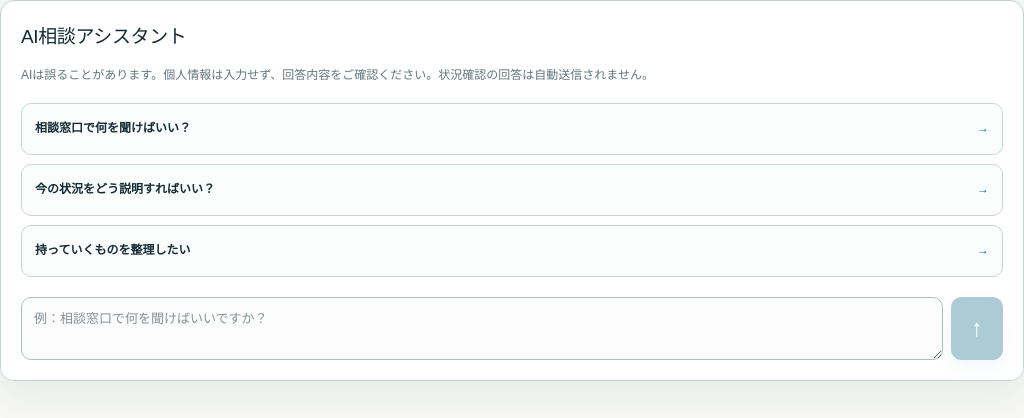
Test: SupportChat conversation lifecycle › scrolls the log toward the latest entry after sending and after the reply
Step 1. Type "窓口で何を聞けばいいですか？" into the text box named "相談したいこと" → (482, 328), box [21,297,943,360]
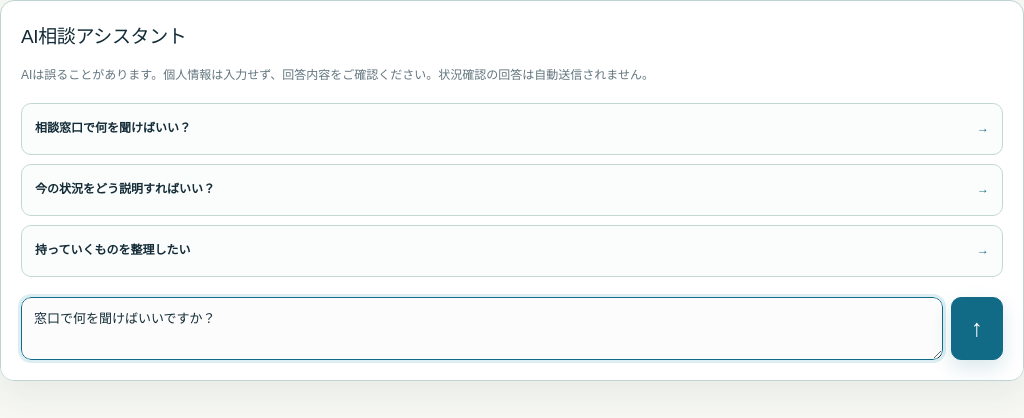
Step 2. Click the button named "送る" → (977, 328), box [951,297,1003,360]
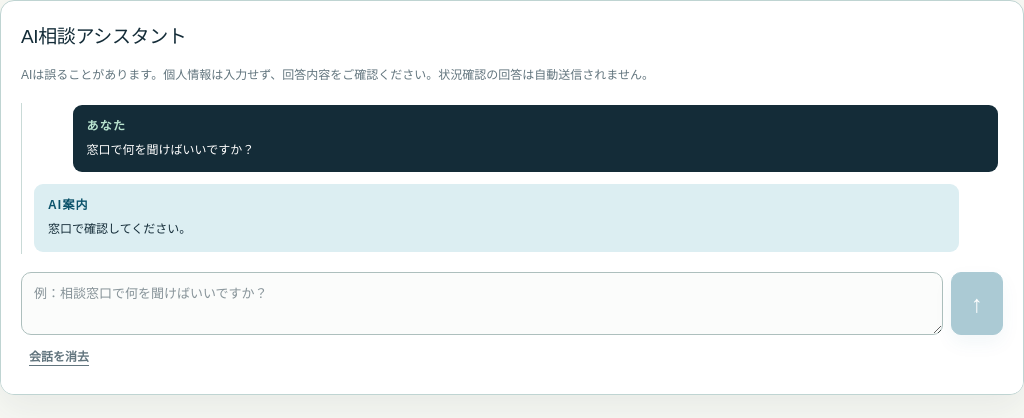
Expected: the text "窓口で確認してください。" is shown, [48,222,191,236]
